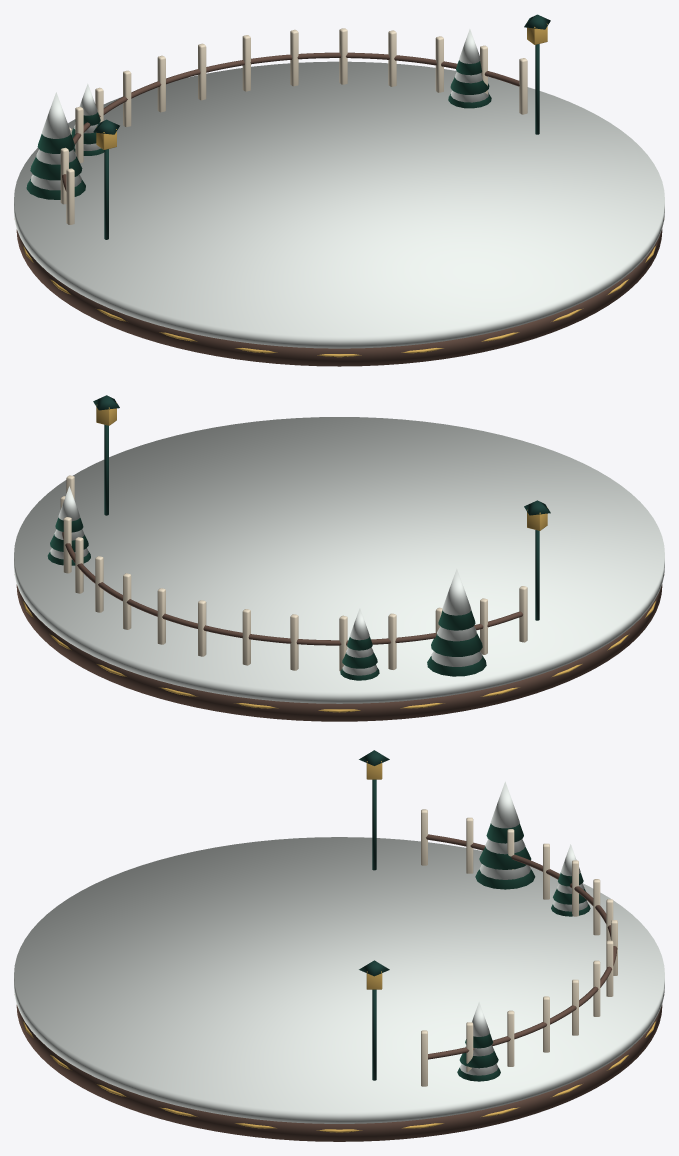
Rendered from environment.glb.
3 views of the same model, one above another, from view 1: azimuth 30°, elevation 25°; view 2: azimuth 150°, elevation 25°; view 3: azimuth 270°, elevation 25° (orthographic).
Visible parts, largest first — view 1: Snow ground, Wooden plinth, Fence rail, Plinth gold trim, Fir snow.002, Background fir.001, Background fir.002; view 2: Snow ground, Wooden plinth, Fence rail, Plinth gold trim, Background fir.001, Fir snow.002, Background fir, Background fir.002, Fir snow, Fence picket.008, Fence picket.009, Fence picket.007 (+3 smaller); view 3: Snow ground, Wooden plinth, Fence rail, Plinth gold trim, Fir snow.002, Background fir.001, Background fir.
Boxes of the visible parts, <box> form: Snow ground: <box>14,61,664,348</box>; Wooden plinth: <box>16,229,662,366</box>; Fence rail: <box>62,52,519,191</box>; Plinth gold trim: <box>22,245,656,357</box>; Fir snow.002: <box>42,92,70,138</box>; Background fir.001: <box>30,156,82,180</box>; Background fir.002: <box>37,133,74,153</box>; Snow ground: <box>14,417,664,703</box>; Wooden plinth: <box>16,584,662,721</box>; Fence rail: <box>62,532,522,645</box>; Plinth gold trim: <box>23,601,655,712</box>; Background fir.001: <box>431,633,482,656</box>; Fir snow.002: <box>442,568,471,615</box>; Background fir: <box>427,655,486,676</box>; Background fir.002: <box>438,610,475,630</box>; Fir snow: <box>431,651,482,666</box>; Fence picket.008: <box>242,609,250,665</box>; Fence picket.009: <box>290,614,298,670</box>; Fence picket.007: <box>198,600,206,656</box>; Snow ground: <box>14,837,664,1123</box>; Wooden plinth: <box>16,1005,662,1141</box>; Fence rail: <box>426,834,617,1059</box>; Plinth gold trim: <box>23,1021,655,1132</box>; Fir snow.002: <box>490,781,519,828</box>; Background fir.001: <box>479,846,531,869</box>; Background fir: <box>475,869,535,889</box>.
Size of the model in its own units: 7.46 by 1.9 by 7.46.
